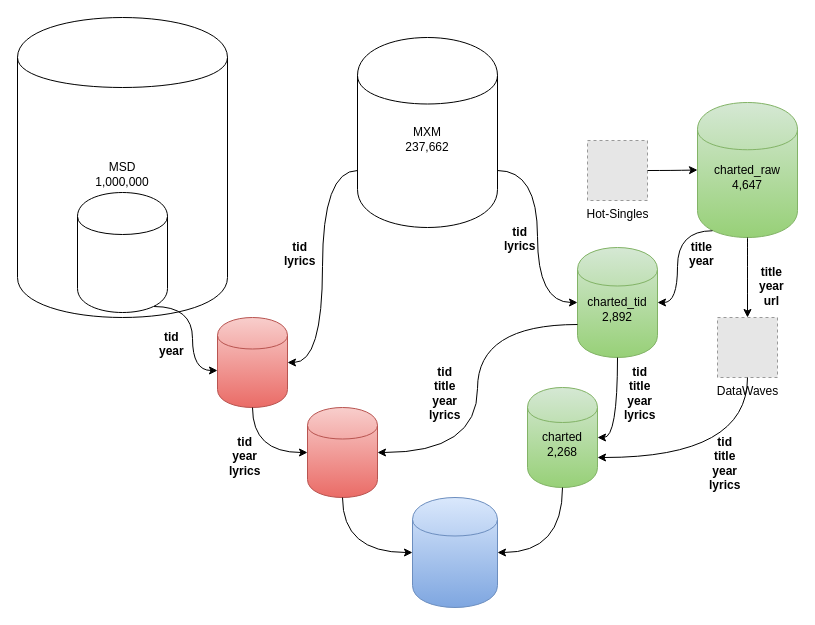
Some shapes in this 815 by 625 pixel diagram are drawn without their labels. Grey dashed boxes stand in for pictures. Each missing label, with the box of its shape:
final 3,904: (412, 496, 498, 608)
MSD_ 10,000: (76, 192, 168, 312)
MSD_MXM 1,655: (216, 316, 288, 408)
uncharted 1,636: (306, 406, 378, 498)
